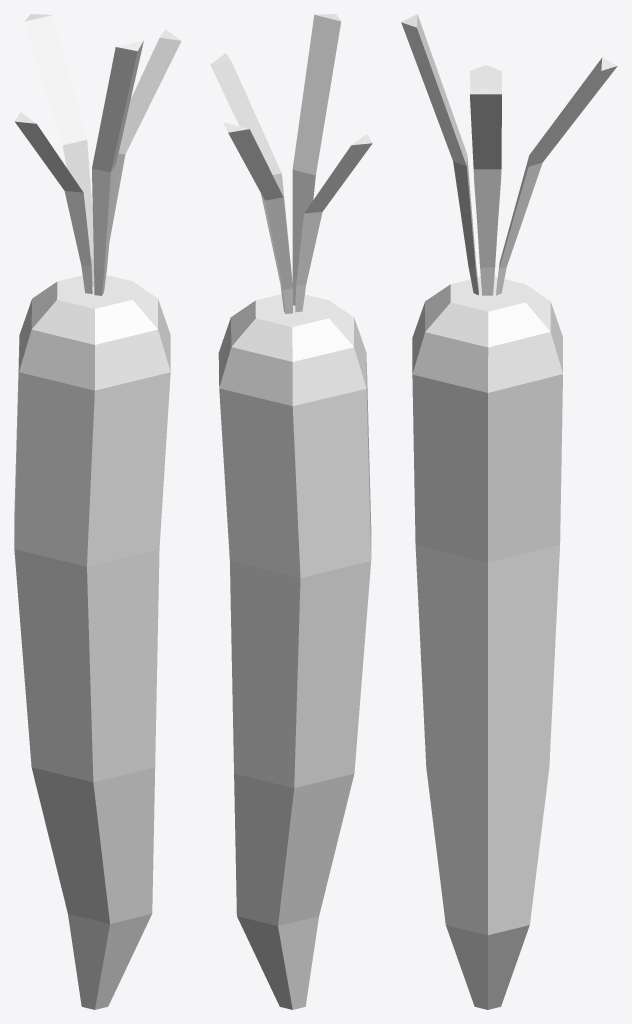
File: Crop_Carrot_04.glb
3 views of the same model, side by side, from view 1: azimuth 30°, elevation 25°; view 2: azimuth 150°, elevation 25°; view 3: azimuth 270°, elevation 25° (orthographic). The views are drawn at different scales.
Parts seen in each view (by area): view 1: Crop_Carrot_04; view 2: Crop_Carrot_04; view 3: Crop_Carrot_04.
Boxes of the visible parts, x1=… form: Crop_Carrot_04: x1=14, y1=14, x2=181, y2=1009; Crop_Carrot_04: x1=210, y1=14, x2=372, y2=1009; Crop_Carrot_04: x1=401, y1=14, x2=617, y2=1009.
Bounding box in the file's own units: 0.0961 × 0.5699 × 0.1139.
1 material, 1 textured.
